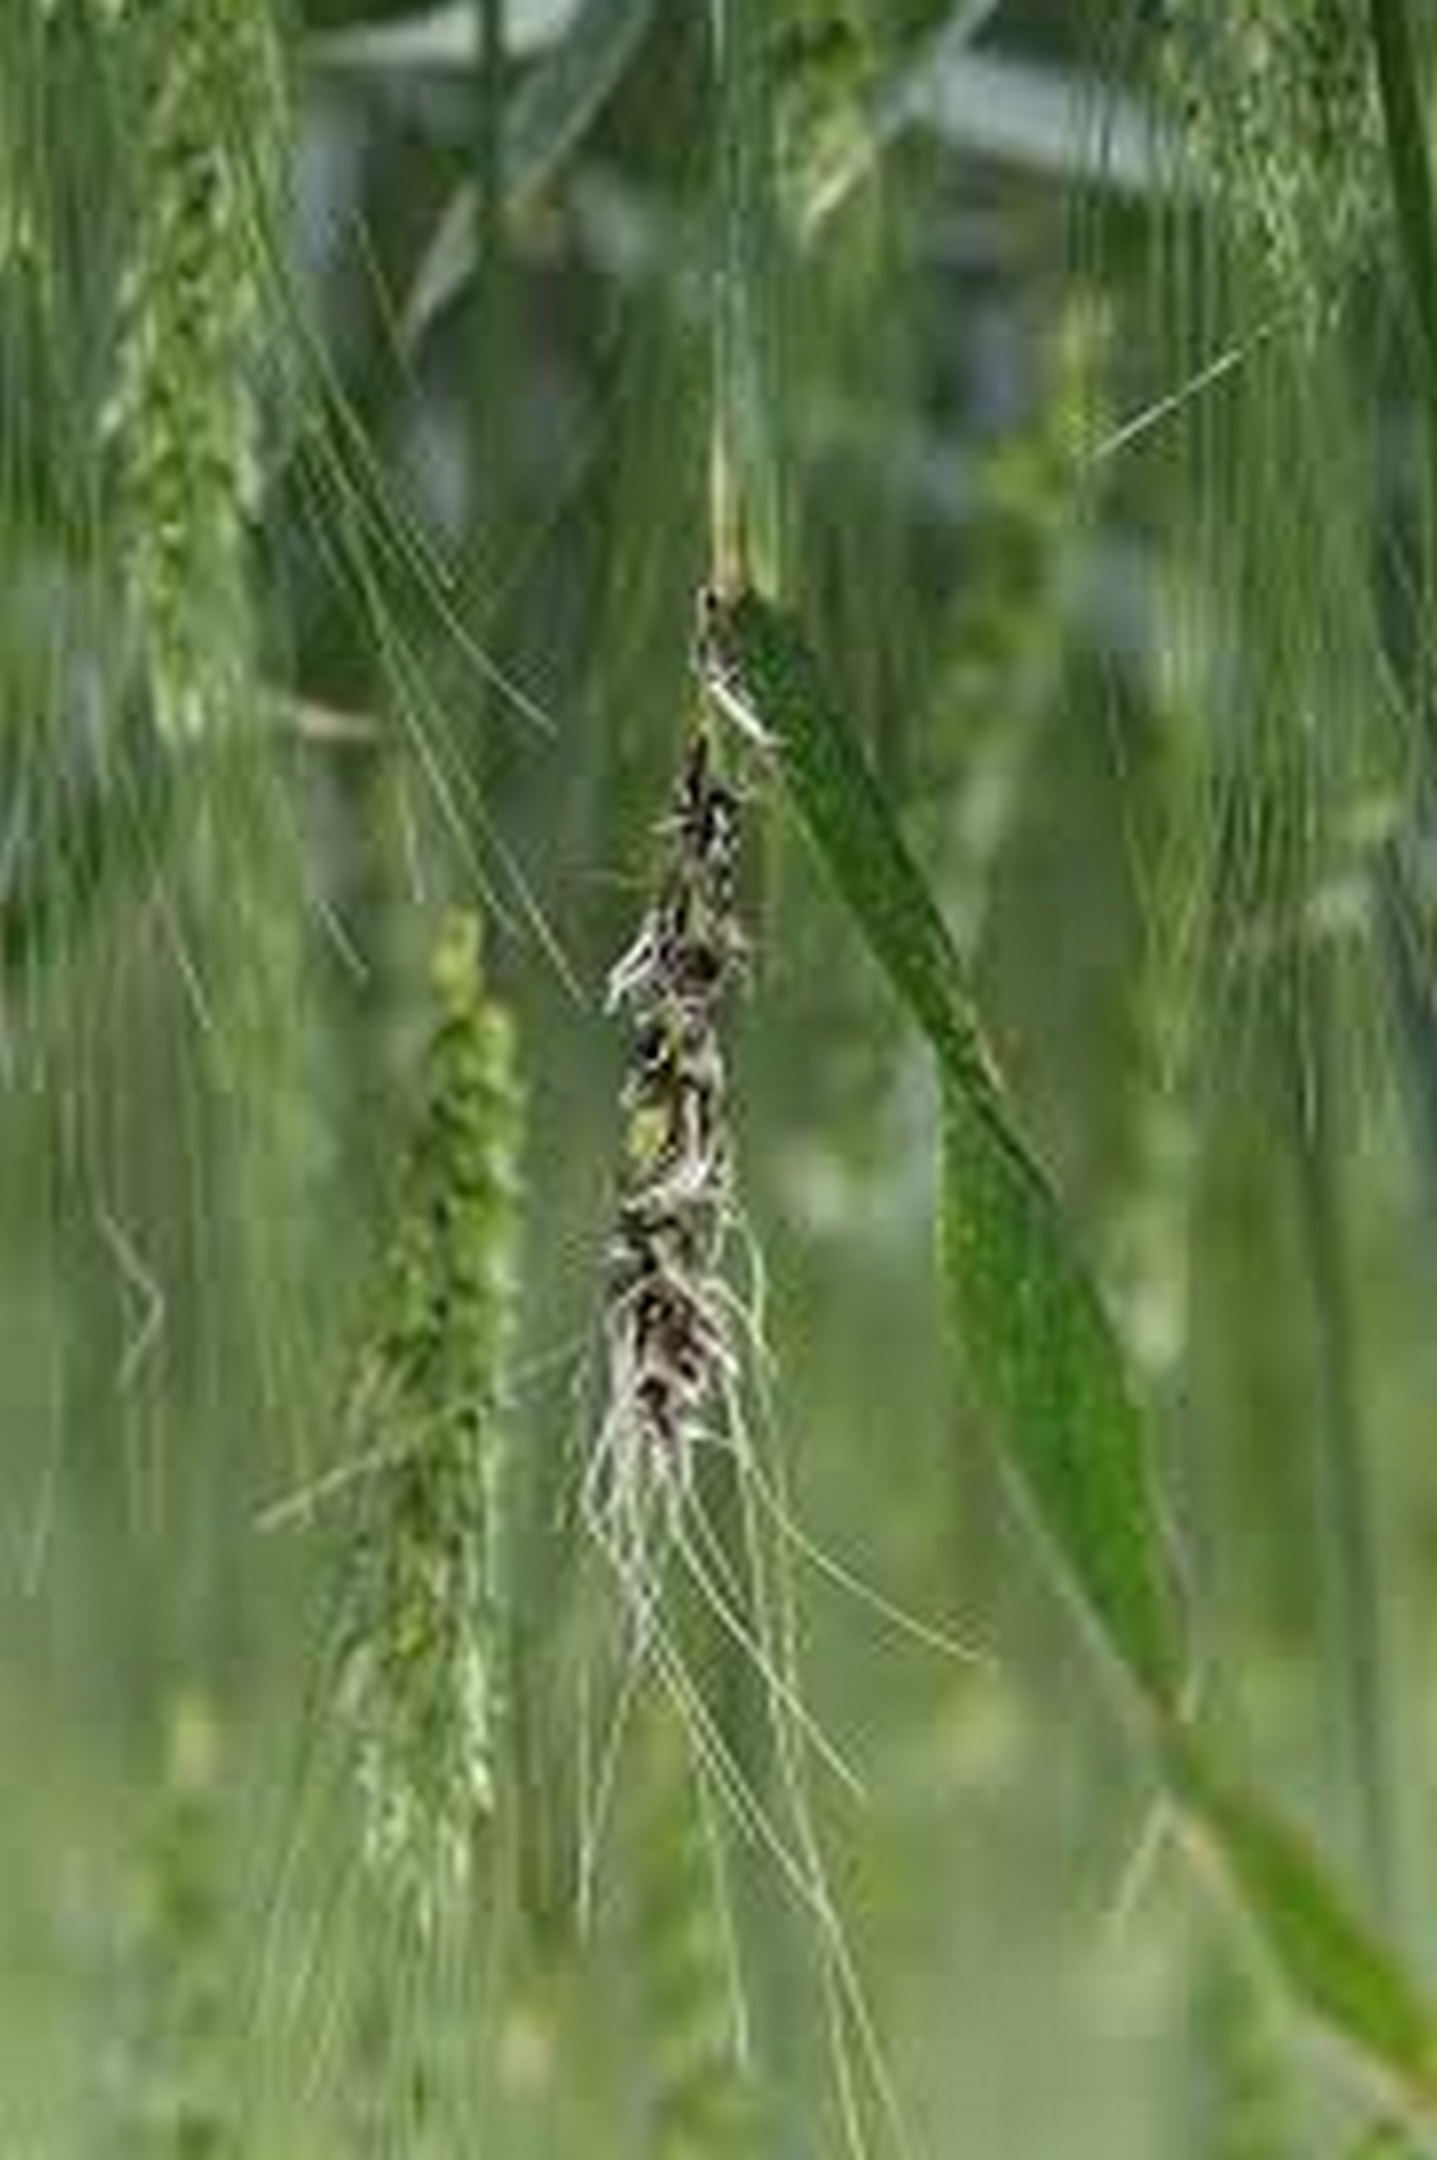Wheat Loose Smut: (593, 691, 783, 1461)
